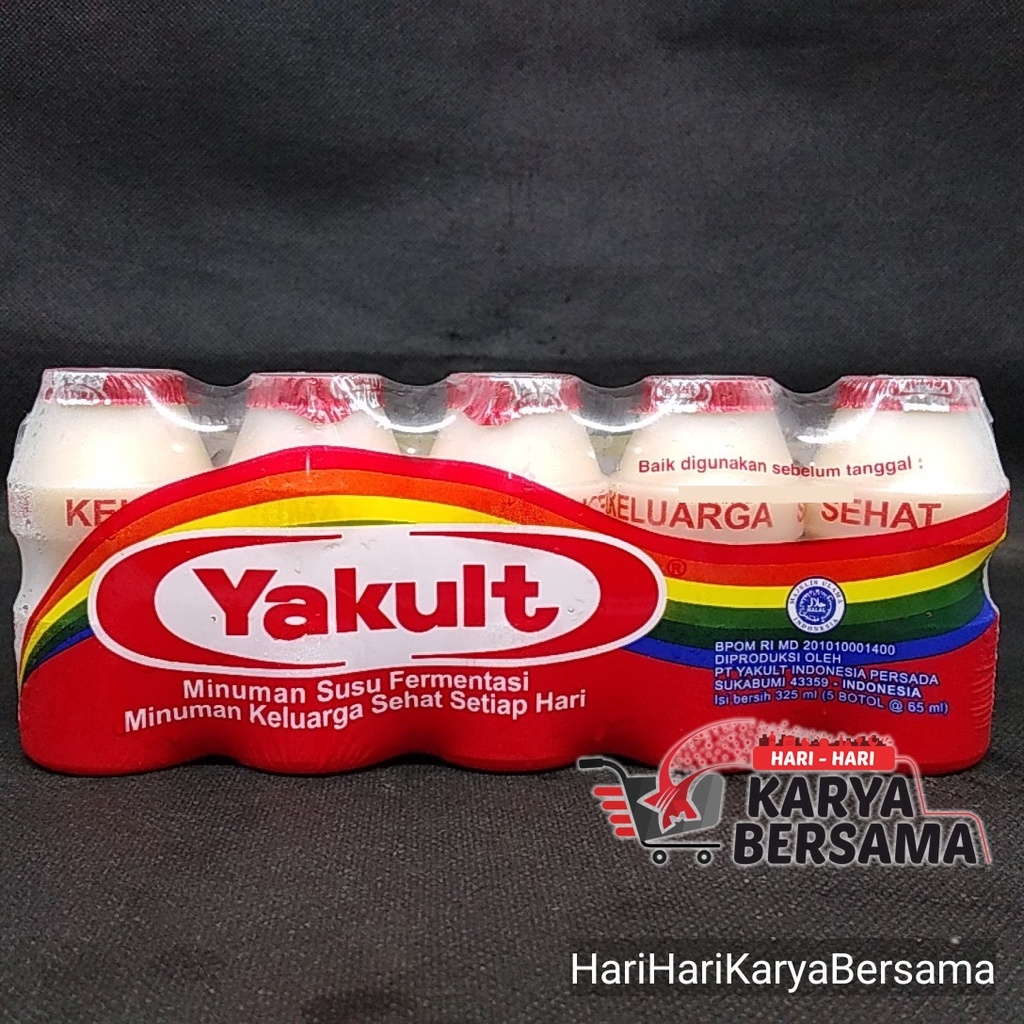Yakult (325ml): (12, 357, 998, 790)
